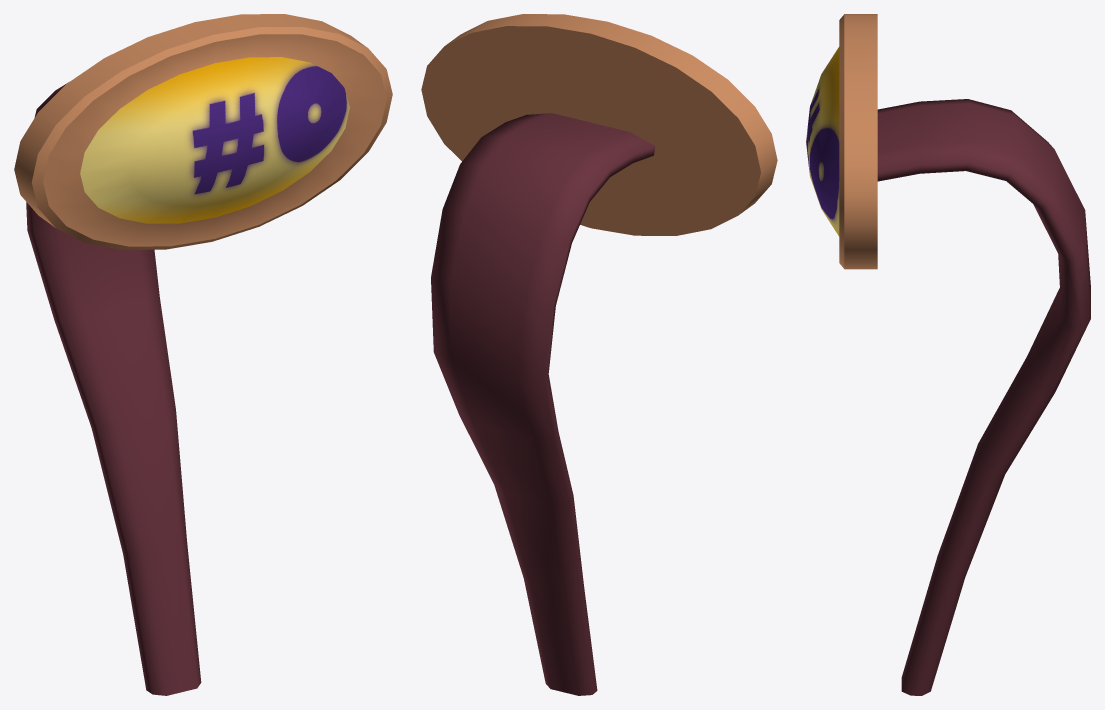
Rendered from Sign_Simple_Mesh.FBX.
3 renders of one model, left to right at view 1: azimuth 30°, elevation 25°; view 2: azimuth 150°, elevation 25°; view 3: azimuth 270°, elevation 25°, orthographic. The views are drawn at different scales.
Visible parts, largest first — view 1: Sign_Simple; view 2: Sign_Simple; view 3: Sign_Simple.
Boxes of the visible parts, bbox=[...] form: Sign_Simple: bbox=[14, 14, 392, 695]; Sign_Simple: bbox=[421, 14, 777, 695]; Sign_Simple: bbox=[806, 14, 1090, 695].
Bounding box in the file's own units: 738 × 1327 × 535.
